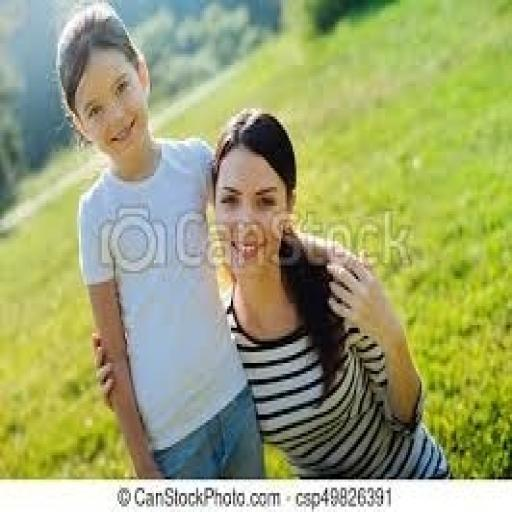hugging: (88, 106, 452, 480), (52, 2, 268, 480)
